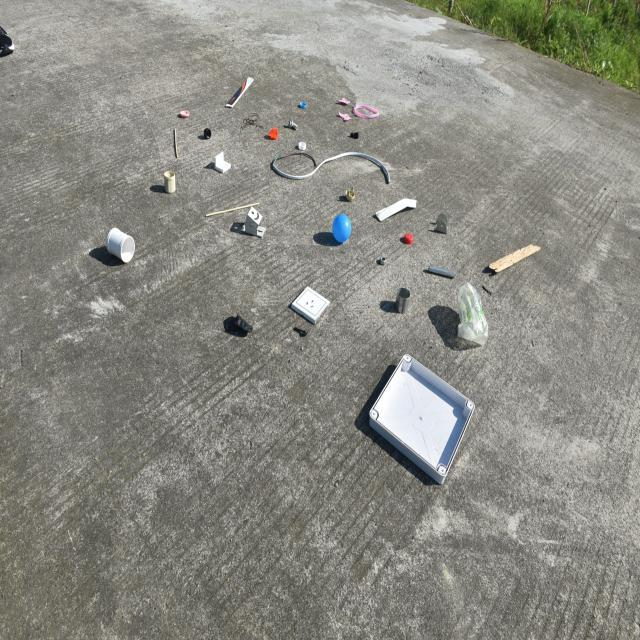Debris: (363, 355, 470, 498), (480, 236, 549, 278), (267, 157, 393, 180), (452, 281, 490, 355), (96, 223, 146, 276), (334, 94, 390, 128), (287, 285, 333, 326), (223, 68, 255, 120), (231, 204, 267, 244), (376, 193, 424, 222), (388, 278, 420, 320), (227, 306, 260, 342), (331, 209, 356, 252), (419, 260, 464, 282), (432, 205, 461, 239), (212, 152, 238, 179), (169, 119, 184, 163), (162, 164, 179, 202), (198, 126, 218, 146), (395, 226, 415, 244), (369, 253, 386, 274), (261, 124, 281, 140), (298, 96, 314, 116), (289, 118, 307, 135), (345, 186, 360, 203), (178, 103, 190, 116), (295, 141, 309, 149)
